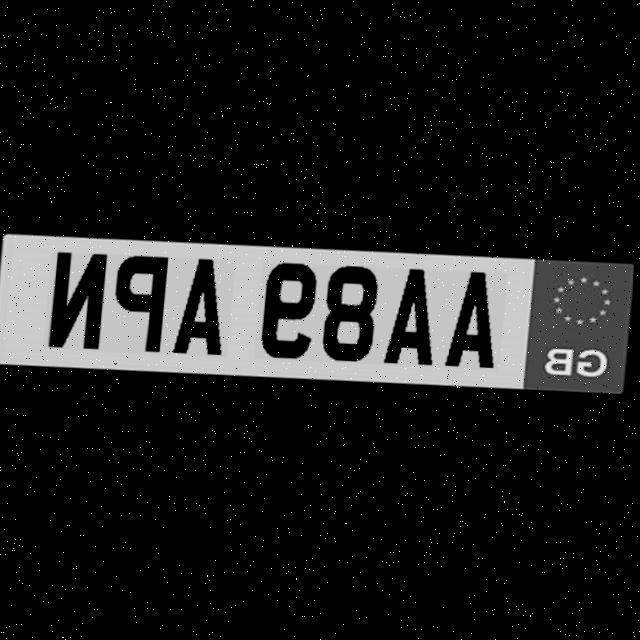license-plates: (0, 232, 634, 393)
